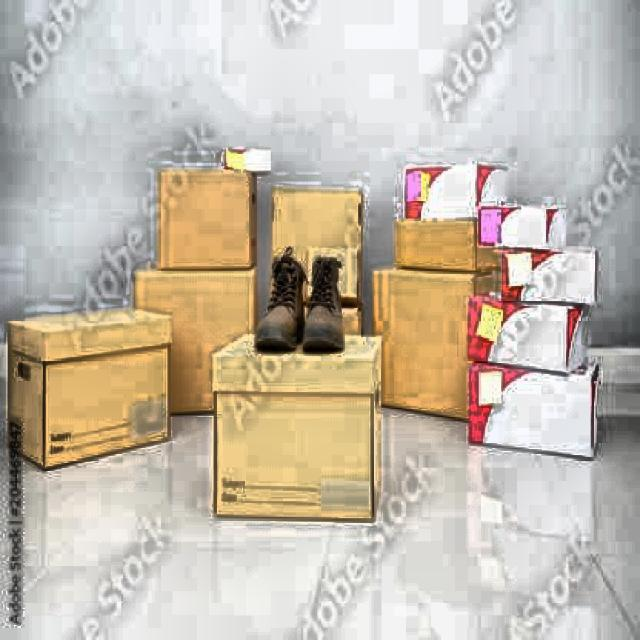Cardbox: (209, 342, 386, 525), (6, 314, 172, 474), (468, 247, 597, 427), (143, 143, 263, 292)
